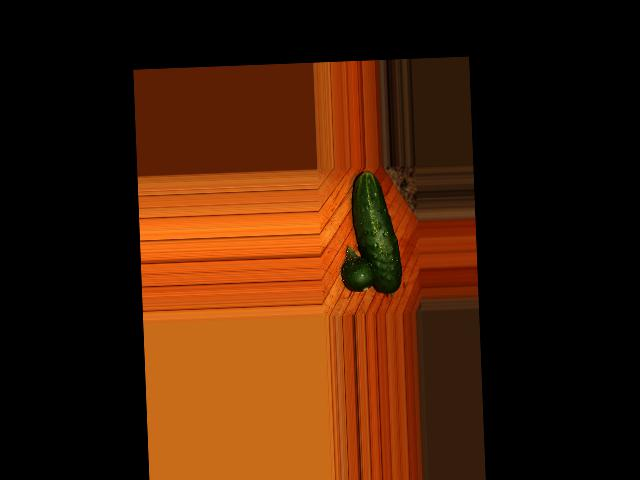cucumber: (350, 169, 402, 295)
